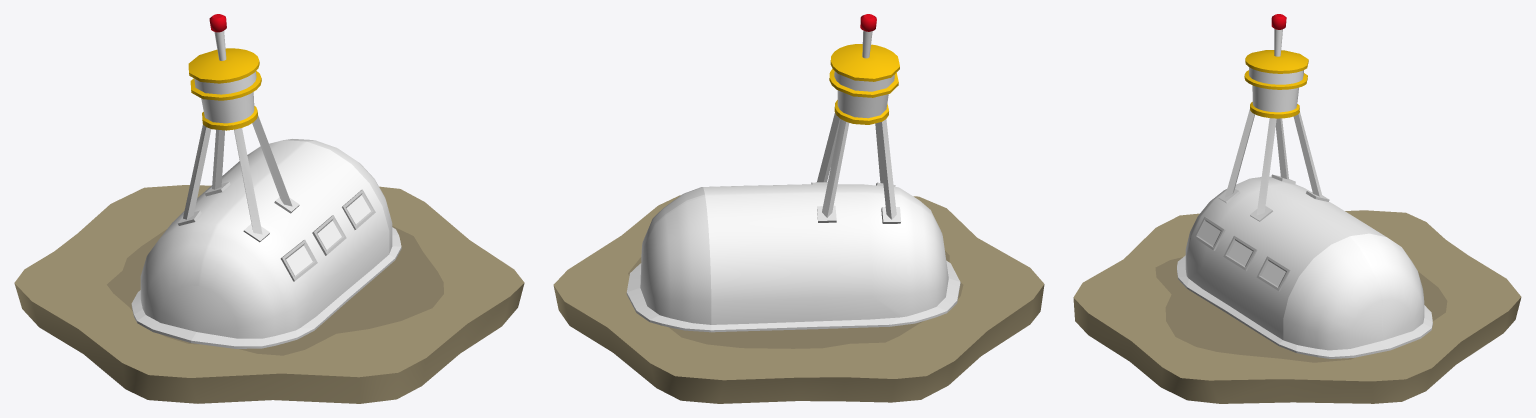
File: ExportDepot.fbx
3 renders of one model, left to right at view 1: azimuth 30°, elevation 25°; view 2: azimuth 150°, elevation 25°; view 3: azimuth 270°, elevation 25°, orthographic. The views are drawn at different scales.
Parts seen in each view (by area): view 1: ExportDepot; view 2: ExportDepot; view 3: ExportDepot.
Part boxes in pixels (x1,y1,x2,y2): ExportDepot: (14,14,524,403); ExportDepot: (553,14,1044,403); ExportDepot: (1073,14,1521,403).
Size of the model in its own units: 0.9199 by 0.6991 by 1.02.
